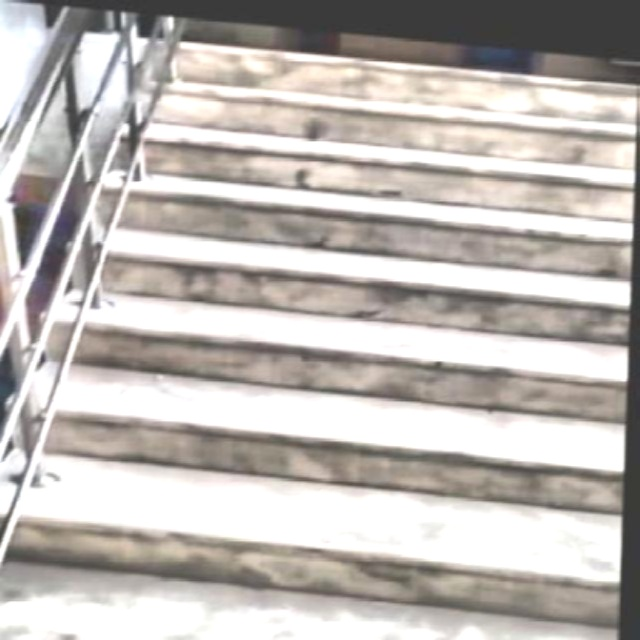stair: (12, 25, 638, 639)
